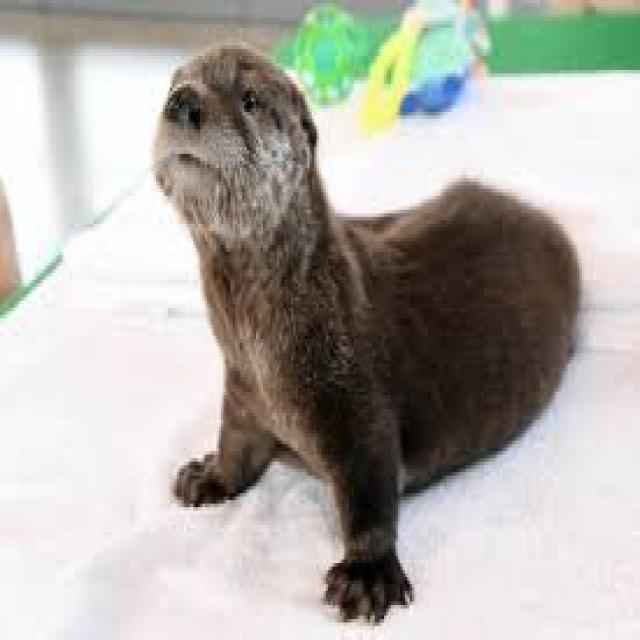Otter: (149, 39, 581, 590)
